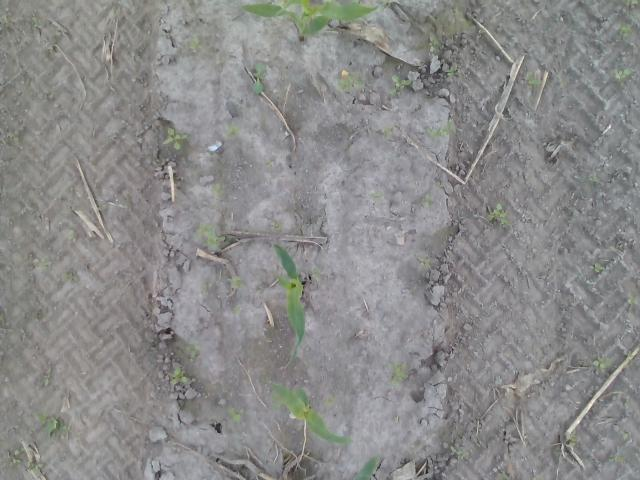Maize: (239, 0, 381, 42), (268, 378, 350, 447), (272, 240, 307, 368), (347, 451, 382, 480)
Weeds: (424, 119, 458, 140), (40, 414, 70, 437), (200, 224, 222, 253), (162, 124, 186, 150), (388, 70, 409, 99), (484, 202, 508, 226), (388, 359, 408, 386), (448, 8, 472, 30), (164, 364, 186, 385), (252, 61, 265, 96), (336, 75, 366, 90), (609, 67, 635, 84), (226, 406, 243, 428), (591, 355, 613, 371), (524, 70, 542, 87), (6, 448, 23, 466), (33, 256, 52, 272), (616, 20, 634, 36), (224, 120, 242, 136), (427, 31, 438, 55), (182, 342, 202, 355), (7, 126, 20, 144), (420, 193, 434, 209), (272, 394, 285, 411), (200, 280, 212, 298), (32, 461, 50, 473), (212, 183, 226, 198), (189, 38, 202, 54), (318, 398, 338, 408), (566, 430, 578, 446), (366, 191, 385, 201), (448, 444, 462, 457), (227, 276, 242, 288), (66, 228, 78, 242), (610, 452, 624, 464), (30, 16, 40, 32), (444, 64, 456, 77), (418, 257, 432, 268), (311, 264, 320, 281), (0, 14, 8, 33), (592, 262, 604, 274), (64, 272, 78, 282), (270, 222, 284, 232), (626, 294, 638, 305), (624, 398, 634, 411), (496, 472, 512, 480), (232, 304, 242, 316), (432, 180, 442, 191), (590, 173, 600, 184), (622, 0, 640, 6), (622, 431, 632, 441), (262, 159, 273, 168), (530, 474, 544, 480), (383, 127, 393, 135), (201, 391, 208, 400), (554, 72, 560, 80)
